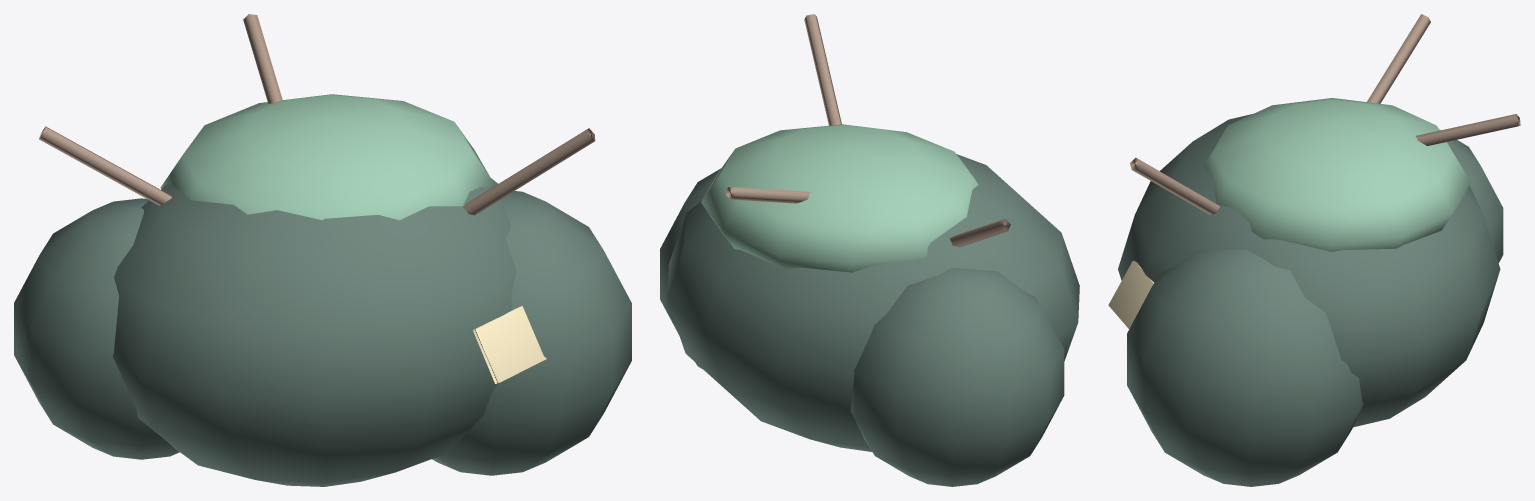
Rendered from scrub_bush.glb.
3 views of the same model, side by side, from view 1: azimuth 30°, elevation 25°; view 2: azimuth 150°, elevation 25°; view 3: azimuth 270°, elevation 25° (orthographic). The views are drawn at different scales.
Parts seen in each view (by area): view 1: Bush; view 2: Bush; view 3: Bush.
Part boxes in pixels (<box>): Bush: <box>14,14,631,486</box>; Bush: <box>660,14,1079,486</box>; Bush: <box>1108,14,1520,486</box>.
Bounding box in the file's own units: 0.8895 × 0.6284 × 0.7114.
